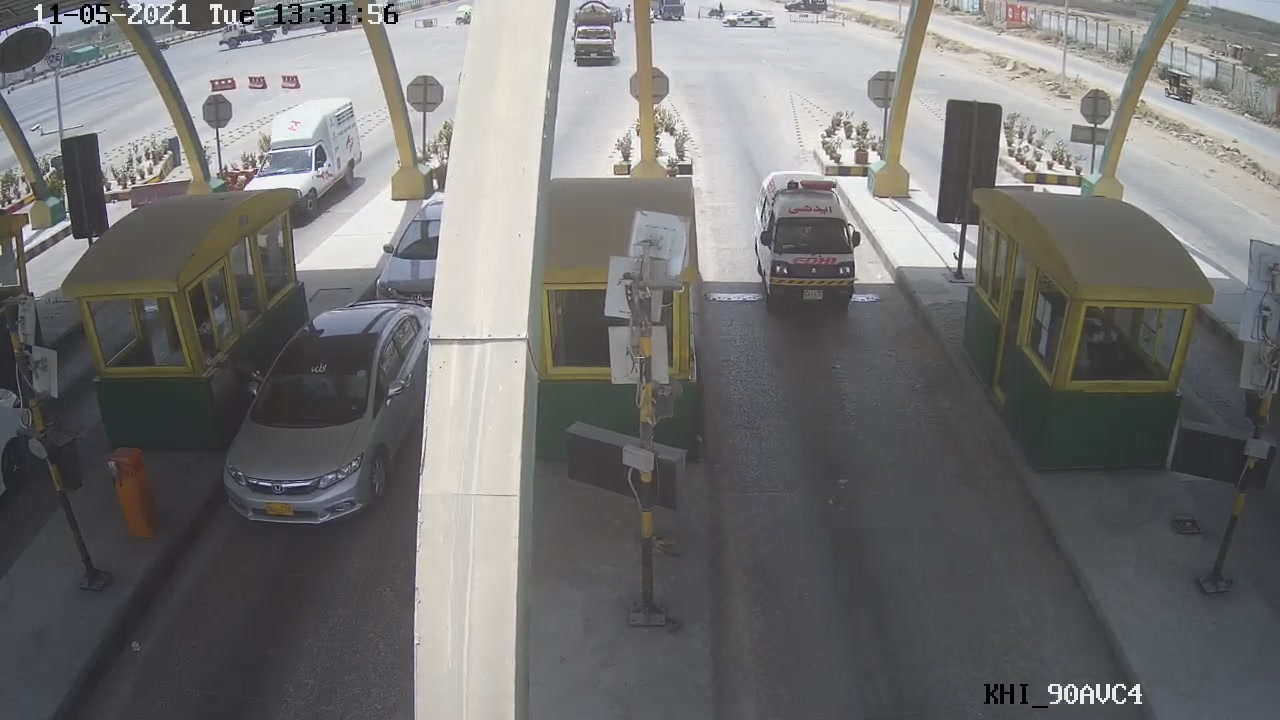F1: (745, 166, 866, 324)
